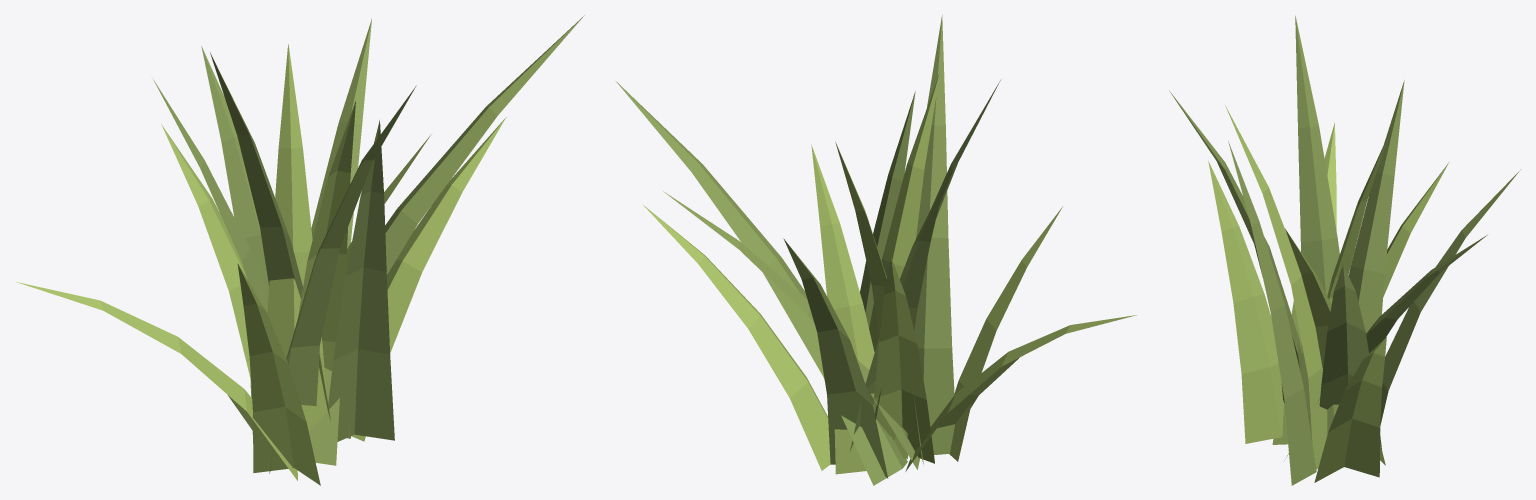
Rendered from Grass_Clump.glb.
3 renders of one model, left to right at view 1: azimuth 30°, elevation 25°; view 2: azimuth 150°, elevation 25°; view 3: azimuth 270°, elevation 25°, orthographic. The views are drawn at different scales.
Visible parts, largest first — view 1: Grass_Clump; view 2: Grass_Clump; view 3: Grass_Clump.
Part boxes in pixels (box(x1,y1,x2,y2)): Grass_Clump: box(16, 15, 584, 485); Grass_Clump: box(616, 15, 1136, 485); Grass_Clump: box(1169, 15, 1520, 485).
Bounding box in the file's own units: 0.6297 × 0.4596 × 0.3713.
